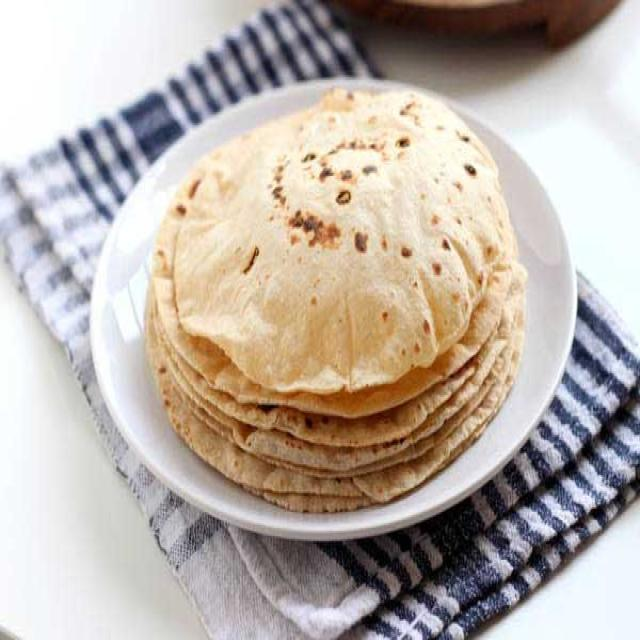ROTI: (145, 187, 526, 510), (174, 86, 516, 392), (146, 282, 490, 446)
